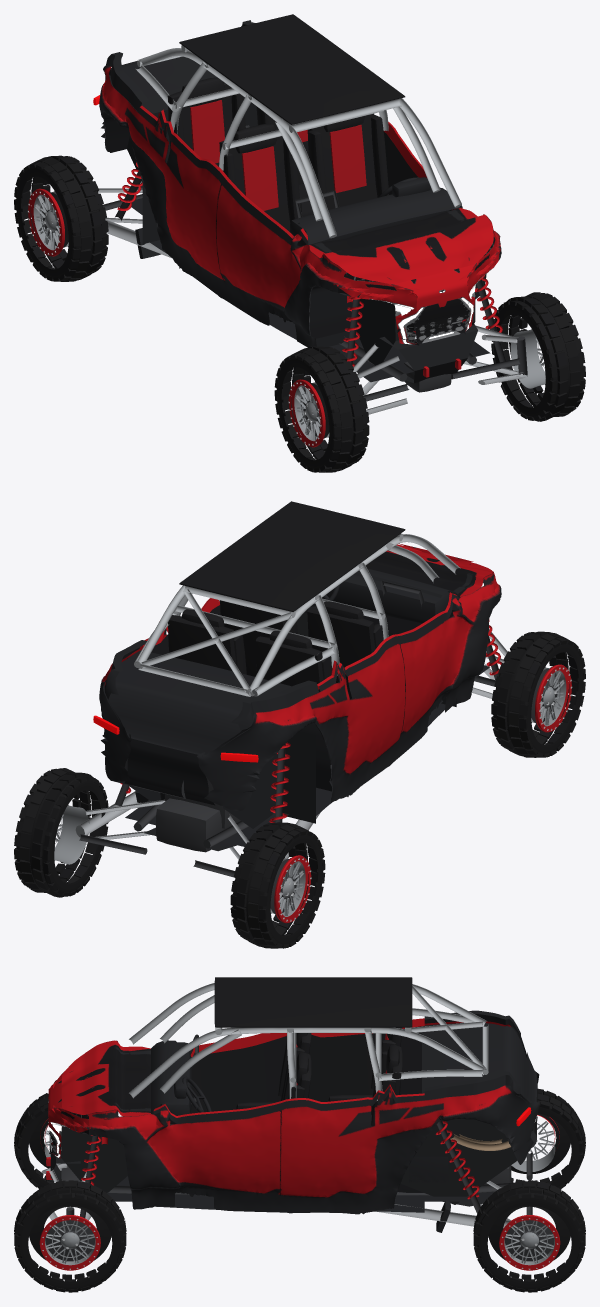
Rendered from rzr-pro-r-6-steering-separated.glb.
3 renders of one model, top to bottom at view 1: azimuth 30°, elevation 25°; view 2: azimuth 150°, elevation 25°; view 3: azimuth 270°, elevation 25°, orthographic. The views are drawn at different scales.
Visible parts, largest first — view 1: rzr_body, wheel_FR, wheel_RR, wheel_FL; view 2: rzr_body, wheel_FR, wheel_RR, wheel_RL; view 3: rzr_body, wheel_RL, wheel_FL, wheel_RR, wheel_FR, steering_wheel_and_spokes.
Boxes of the visible parts, box(x1,y1,x2,y2) form: rzr_body: box(93, 14, 527, 414); wheel_FR: box(274, 346, 369, 472); wheel_RR: box(14, 155, 108, 281); wheel_FL: box(491, 292, 585, 421); rzr_body: box(75, 501, 507, 877); wheel_FR: box(491, 631, 585, 757); wheel_RR: box(230, 822, 325, 948); wheel_RL: box(14, 768, 108, 897); rzr_body: box(41, 977, 539, 1232); wheel_RL: box(473, 1180, 585, 1292); wheel_FL: box(14, 1180, 126, 1292); wheel_RR: box(511, 1088, 585, 1188); wheel_FR: box(14, 1093, 67, 1188); steering_wheel_and_spokes: box(182, 1076, 211, 1112).
Bounding box in the file's own units: 1.89 × 1.95 × 4.22.
18 materials, 1 textured.
